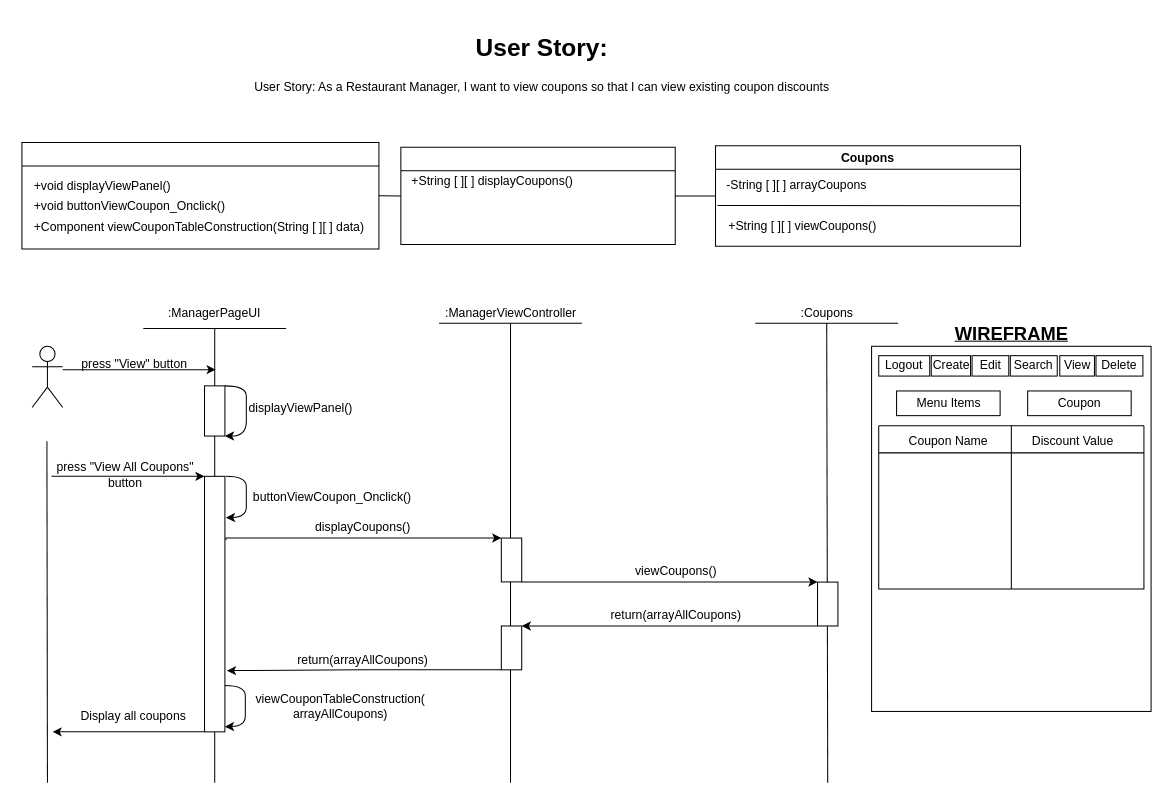
This 1169x802 diagram has some shape labels left out. Here are the shapes that lost their labels. From the top down, the box of each, then its label:
(21, 141, 379, 249): ManagerPageUI
(400, 146, 675, 245): ManagerViewController
(31, 345, 63, 407): Restaurant Manager
